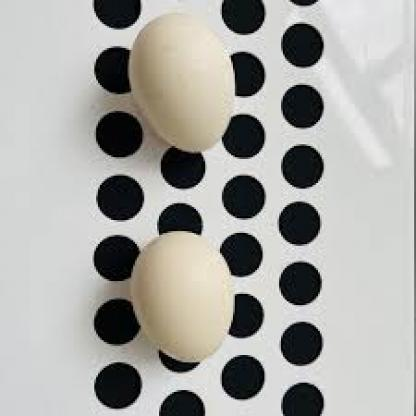egg: (128, 13, 236, 154), (130, 229, 236, 364)
